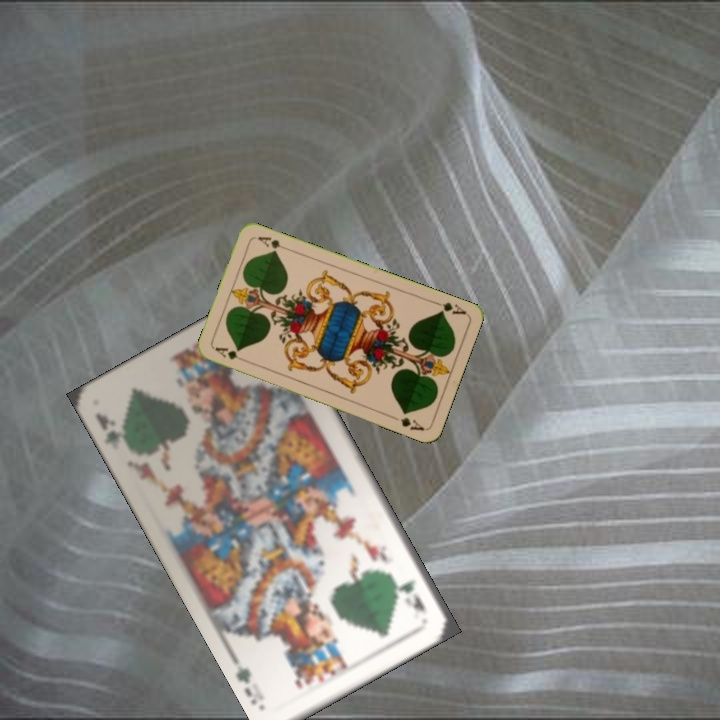GA: (211, 343, 250, 365), (429, 297, 469, 317)
GK: (91, 409, 136, 454), (395, 575, 429, 617)
